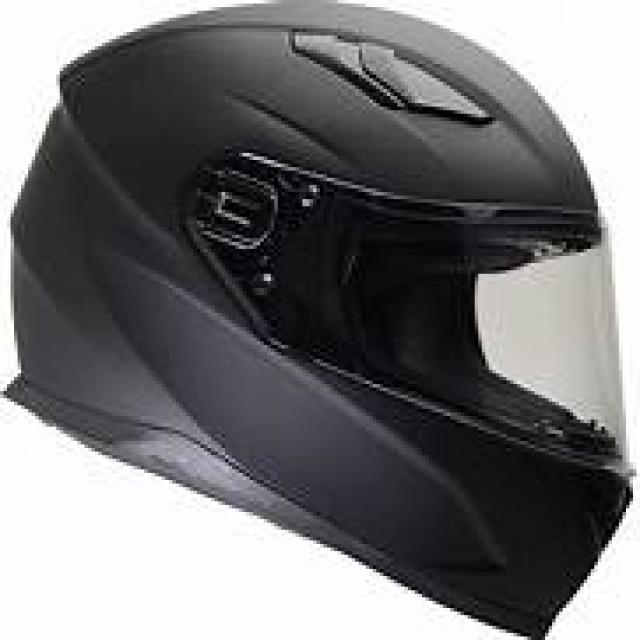helmet: (7, 0, 629, 636)
